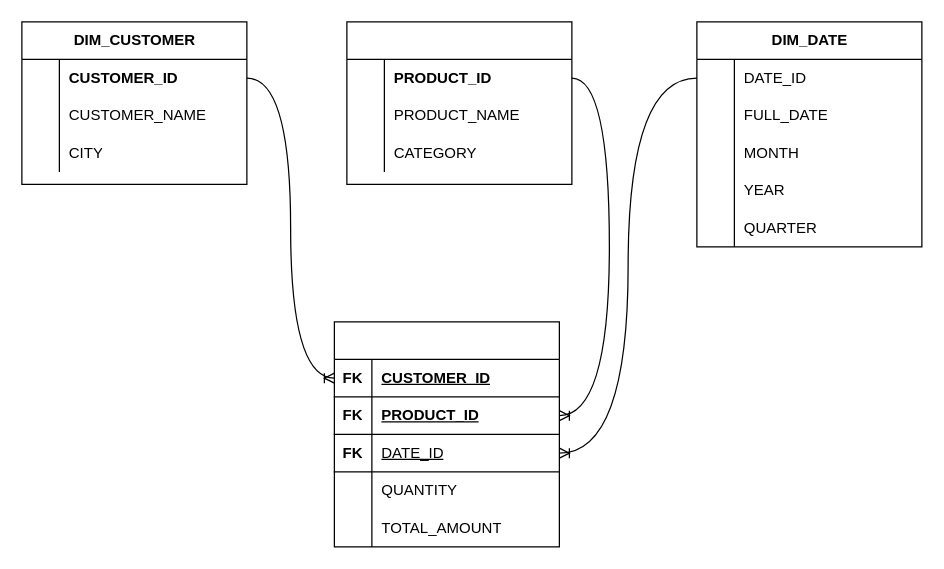
Image size: 944x569. Some labels were removed from this diagram. The shapes that lost their labels are listed below. From the top down, each one's box as (x1, y1, x2, y2) in pixels, then its label:
(346, 21, 572, 184): DIM_PRODUCTS
(333, 321, 559, 547): FACT_SALES
